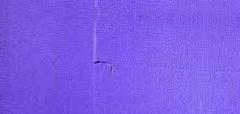snag: (92, 57, 116, 75)
